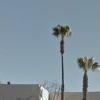Palm tree: (45, 18, 94, 98)
